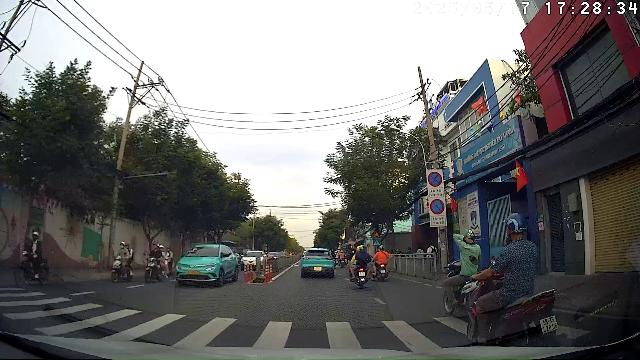130-cam-dung-va-do-xe: (428, 171, 443, 187)
131a-cam-do-xe: (430, 198, 445, 215)
